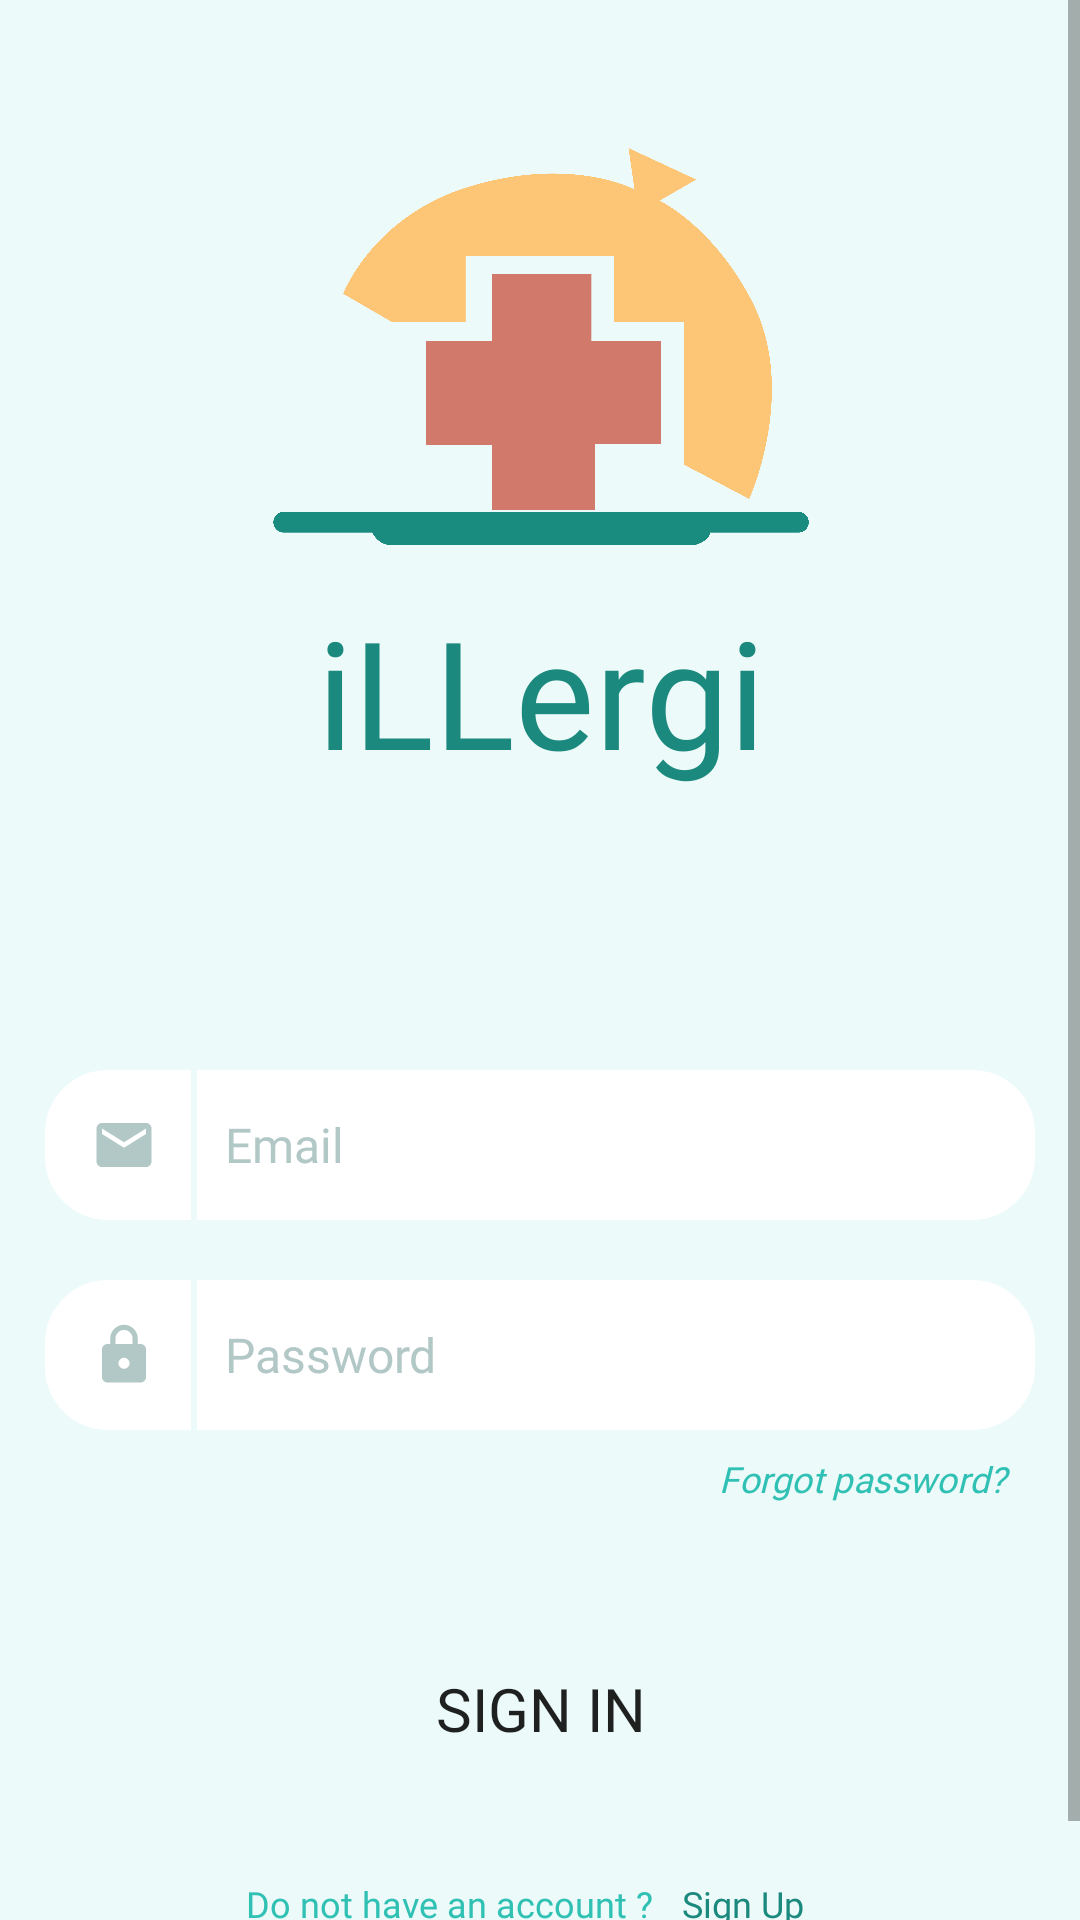

Named icons in this screenshot (1080w x 1920h) and their centers, point (x, y):
lock: point (124, 1354)
